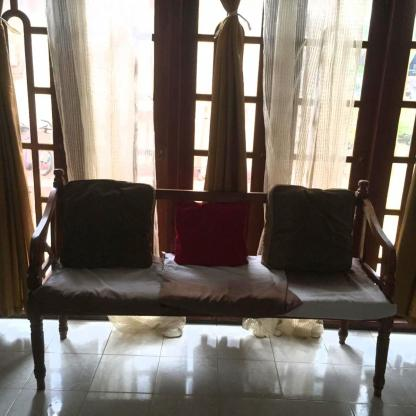Sofa: (26, 167, 398, 397)
